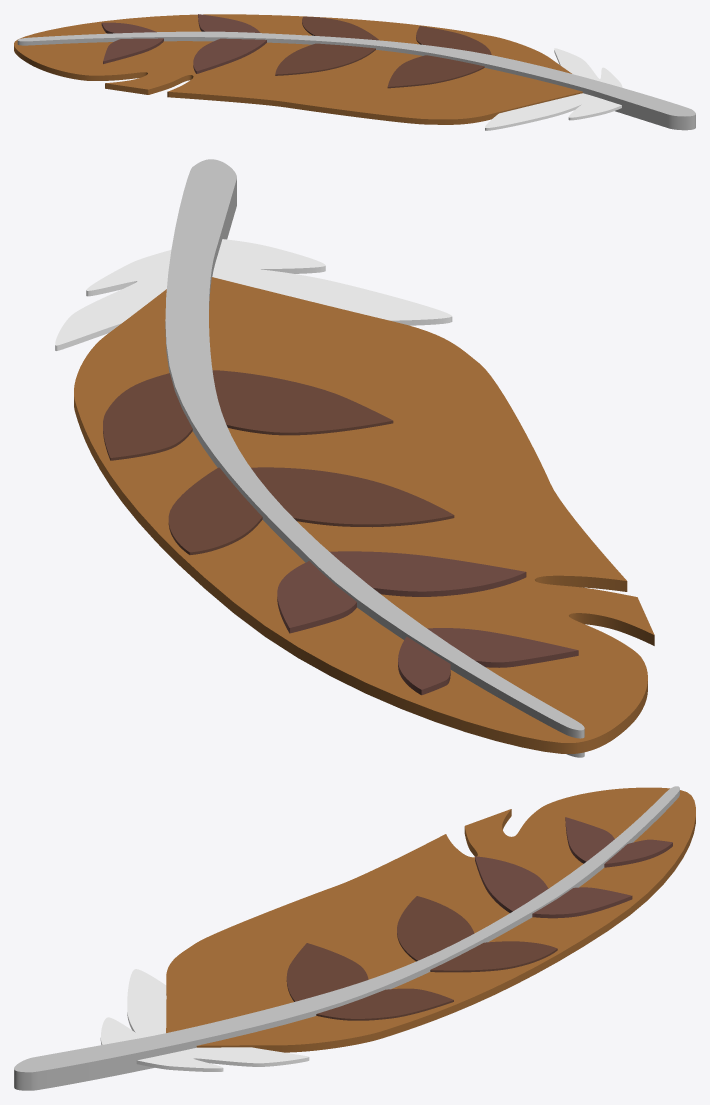
File: emoji_u1fab6.glb
The picture shows the model from 3 angles, top to bottom: view 1: azimuth 30°, elevation 25°; view 2: azimuth 150°, elevation 25°; view 3: azimuth 270°, elevation 25°; orthographic projection. The views are drawn at different scales.
Parts seen in each view (by area): view 1: emoji_u1fab6; view 2: emoji_u1fab6; view 3: emoji_u1fab6.
Part boxes in pixels (x1,y1,x2,y2): emoji_u1fab6: (14,14,695,130); emoji_u1fab6: (55,159,654,757); emoji_u1fab6: (14,786,695,1090).
Size of the model in its own units: 0.0336 by 0.001 by 0.0334.
